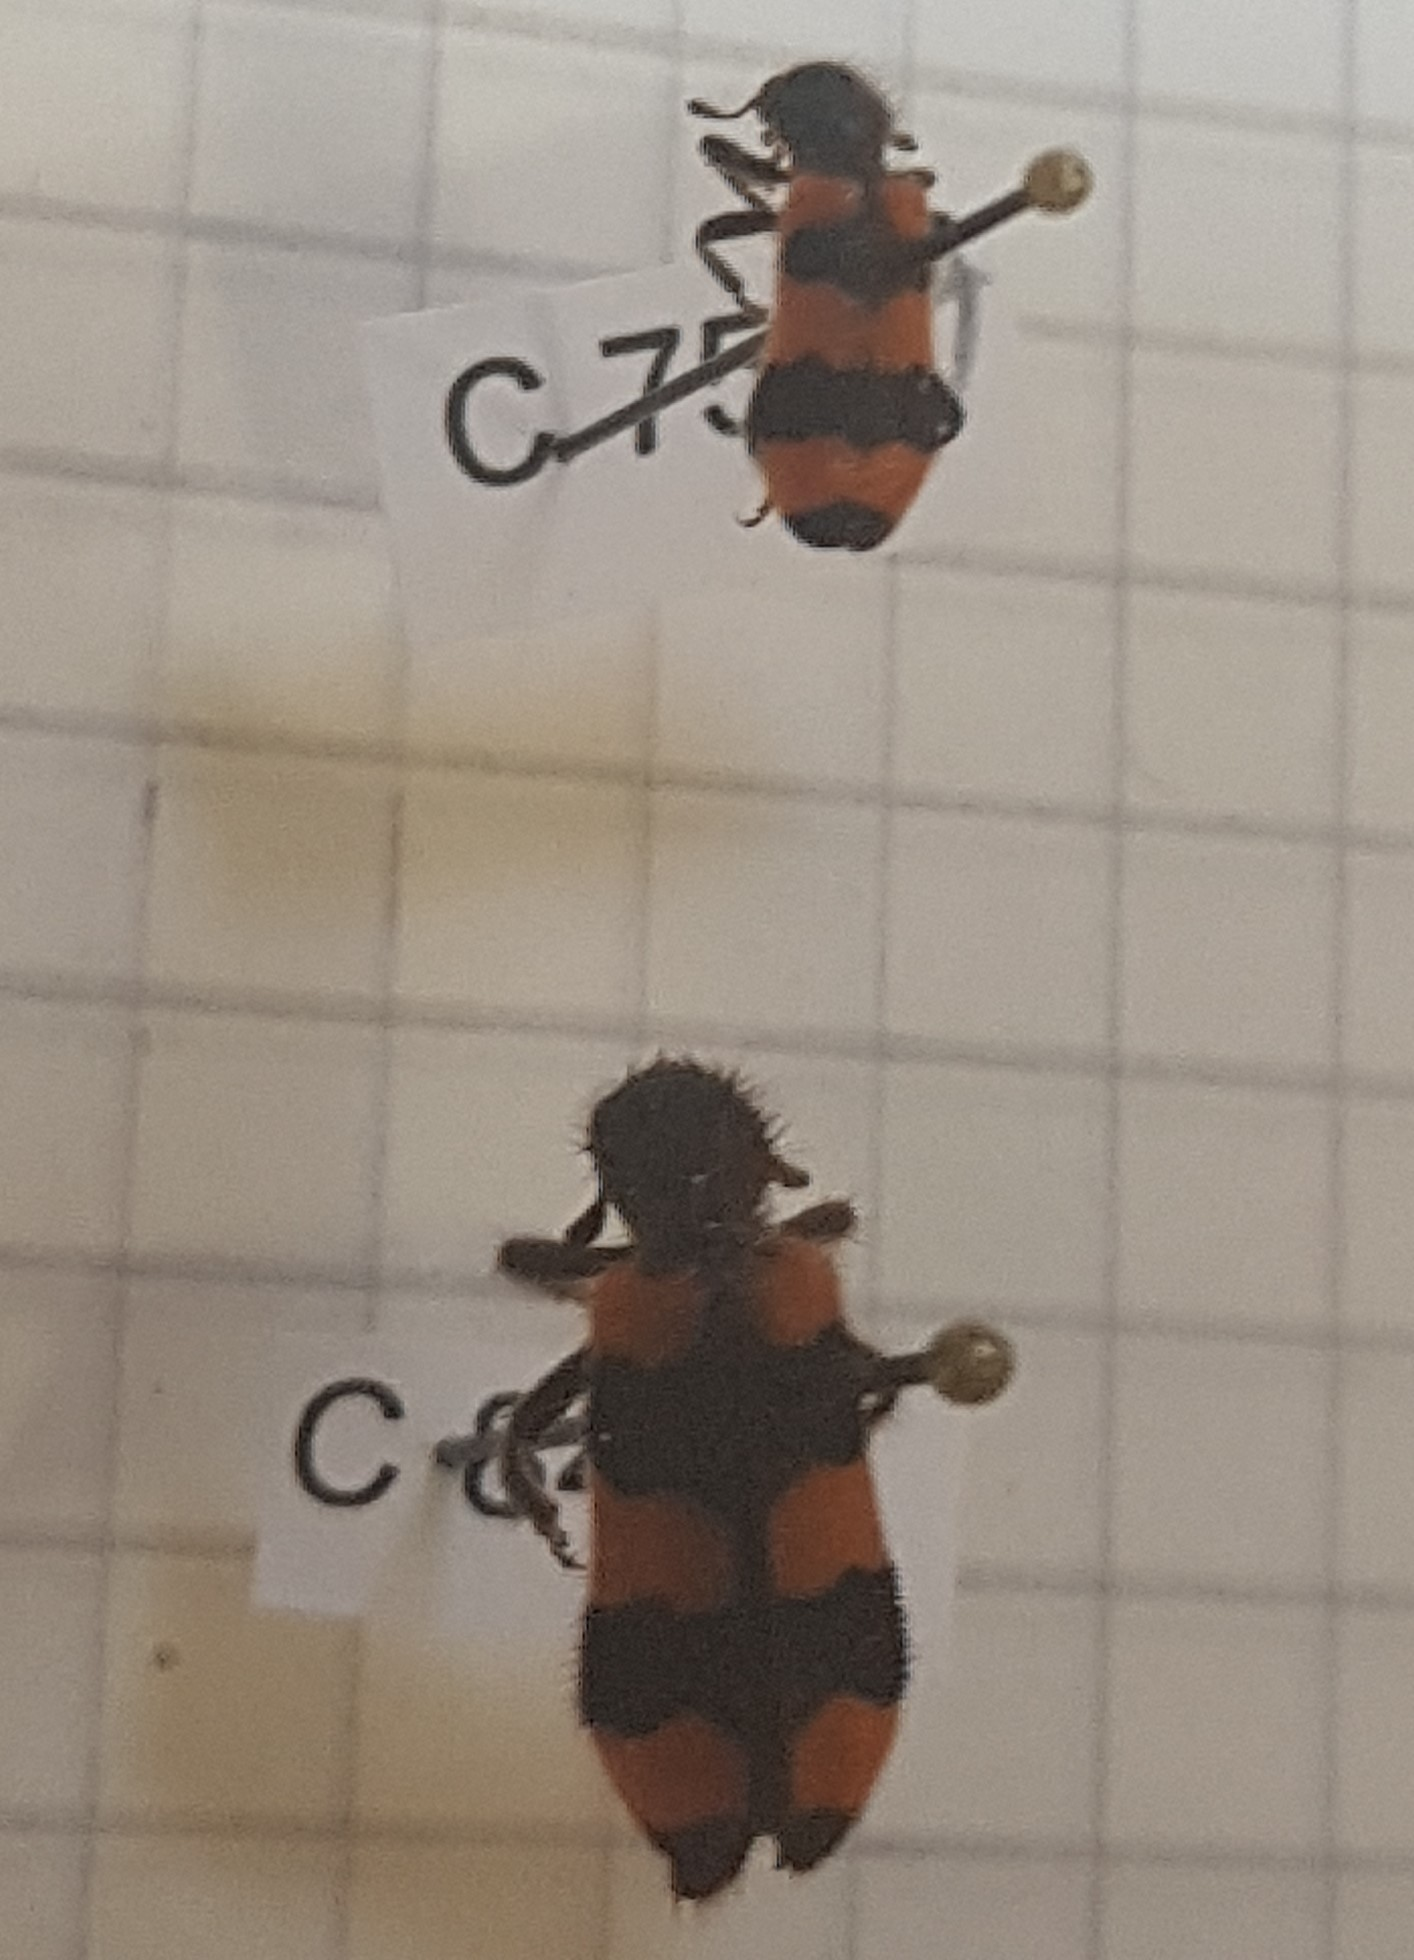trichodes_apiarius: (504, 1027, 938, 1942), (667, 35, 986, 574)
